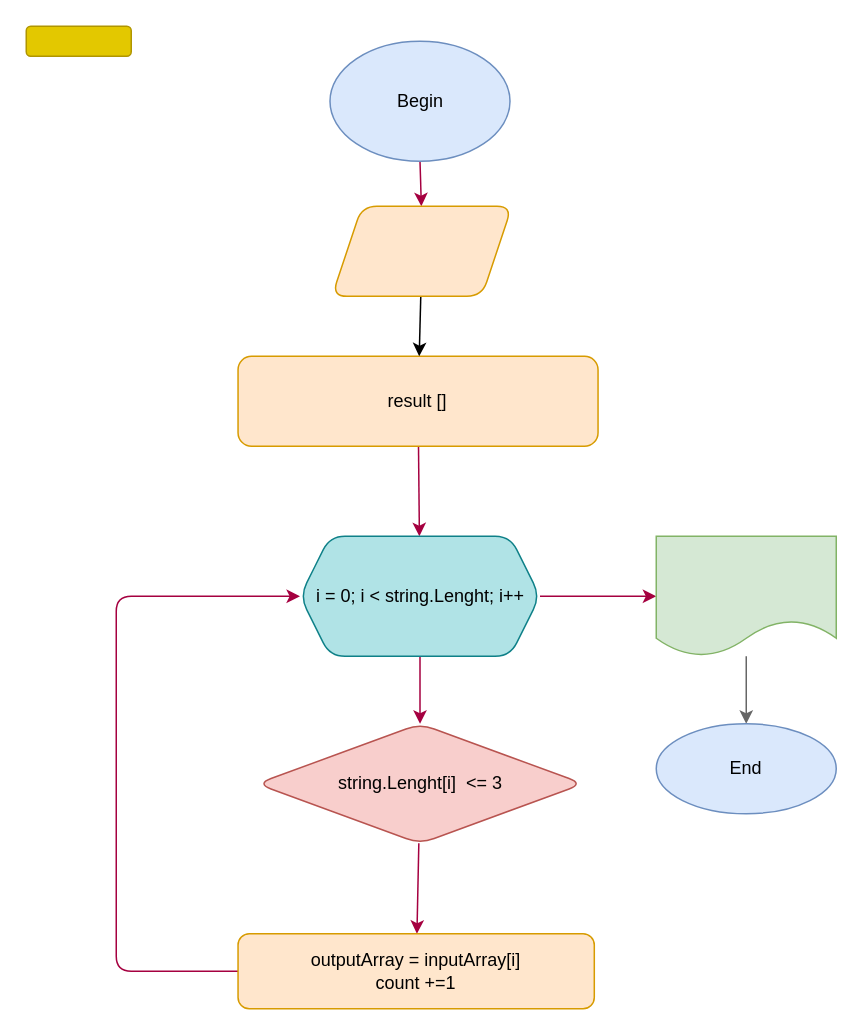
The diagram is 863 pixels wide and 1035 high, and some of its shapes have lost their labels. The centre of each missing label's shape, as x and y in pixels:
"Main Task" goes at pixel 78 40.
"outputArray" goes at pixel 745 595.
"string [] word" goes at pixel 421 250.
